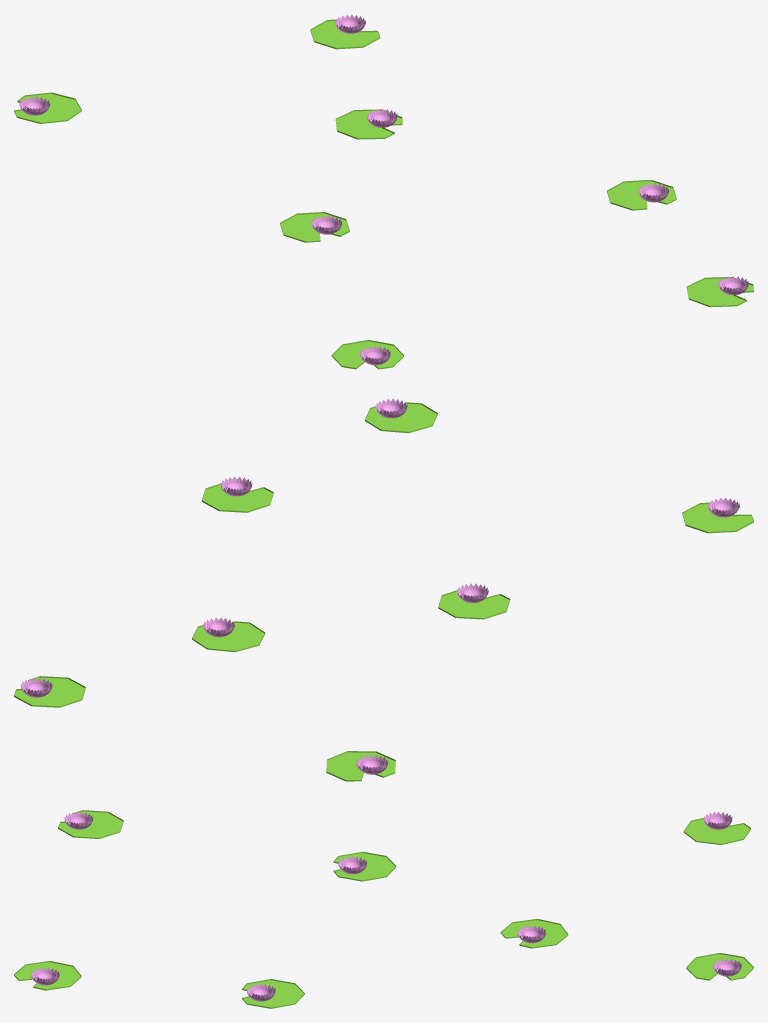
The model's file is lily_pad-v1.glb.
The picture shows the model from 3 angles, top to bottom: view 1: azimuth 30°, elevation 25°; view 2: azimuth 150°, elevation 25°; view 3: azimuth 270°, elevation 25°; orthographic projection. The views are drawn at different scales.
Parts seen in each view (by area): view 1: lily_base.001, lily_base.002, lily_base, lily_base.006, lily_base.003, lily_base.004, lily_base.005; view 2: lily_base, lily_base.006, lily_base.004, lily_base.003, lily_base.005, lily_base.001, lily_base.002; view 3: lily_base.002, lily_base.005, lily_base.003, lily_base.004, lily_base.006, lily_base, lily_base.001.
Boxes of the visible parts, <box> form: lily_base.001: <box>310,15,380,49</box>; lily_base.002: <box>14,92,81,123</box>; lily_base: <box>335,108,402,139</box>; lily_base.006: <box>686,276,753,307</box>; lily_base.003: <box>280,212,349,242</box>; lily_base.004: <box>607,180,676,210</box>; lily_base.005: <box>331,340,403,369</box>; lily_base: <box>192,617,265,652</box>; lily_base.006: <box>365,399,437,433</box>; lily_base.004: <box>201,476,273,512</box>; lily_base.003: <box>438,583,510,619</box>; lily_base.005: <box>682,497,753,533</box>; lily_base.001: <box>14,676,85,707</box>; lily_base.002: <box>326,751,395,781</box>; lily_base.002: <box>683,812,750,844</box>; lily_base.005: <box>58,810,123,838</box>; lily_base.003: <box>333,851,396,881</box>; lily_base.004: <box>242,979,304,1008</box>; lily_base.006: <box>14,961,81,990</box>; lily_base: <box>500,919,568,948</box>; lily_base.001: <box>686,953,753,980</box>.
Bounding box in the file's own units: 1.69 × 0.0422 × 2.67.
